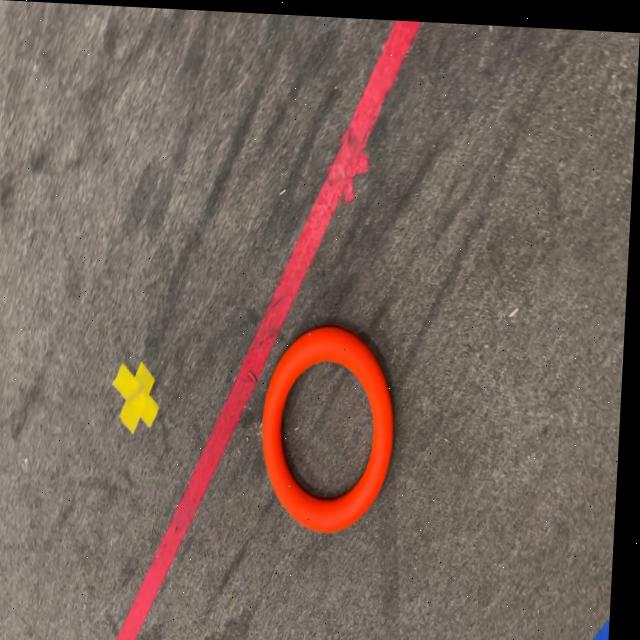note: (264, 320, 403, 531)
